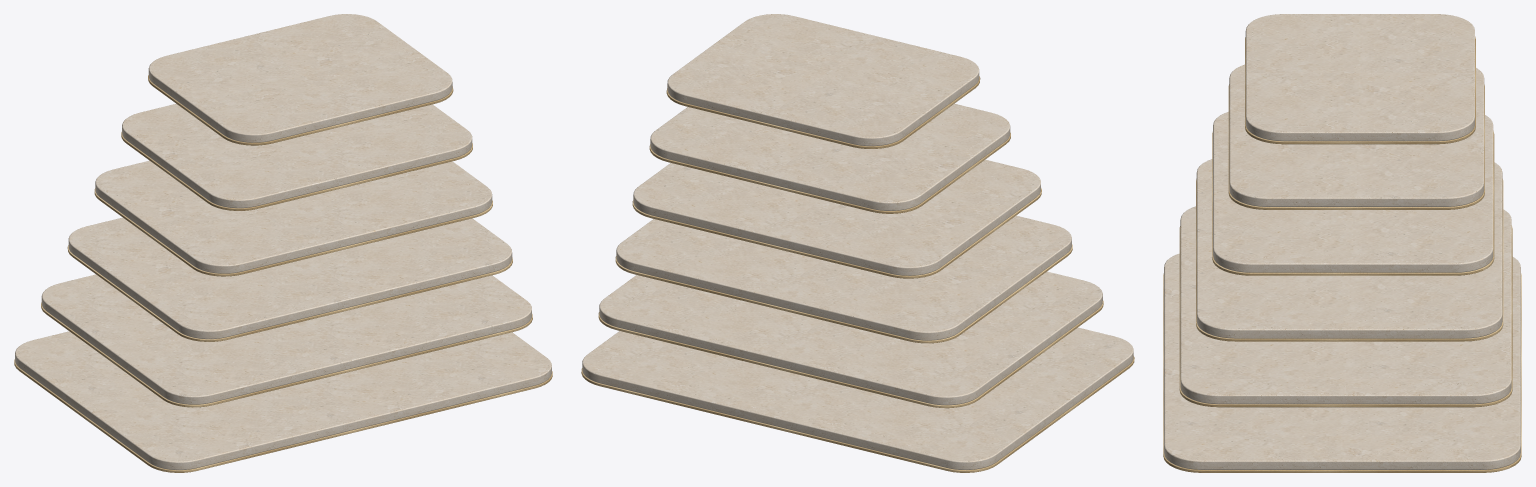
The model's file is floors.glb.
3 views of the same model, side by side, from view 1: azimuth 30°, elevation 25°; view 2: azimuth 150°, elevation 25°; view 3: azimuth 270°, elevation 25° (orthographic). The views are drawn at different scales.
Parts seen in each view (by area): view 1: floors; view 2: floors; view 3: floors.
Part boxes in pixels (x1=…): floors: x1=14, y1=14, x2=552, y2=472; floors: x1=581, y1=14, x2=1134, y2=472; floors: x1=1163, y1=14, x2=1521, y2=472.
Bounding box in the file's own units: 6.3 × 4.29 × 4.5.
3 materials, 2 textured.
